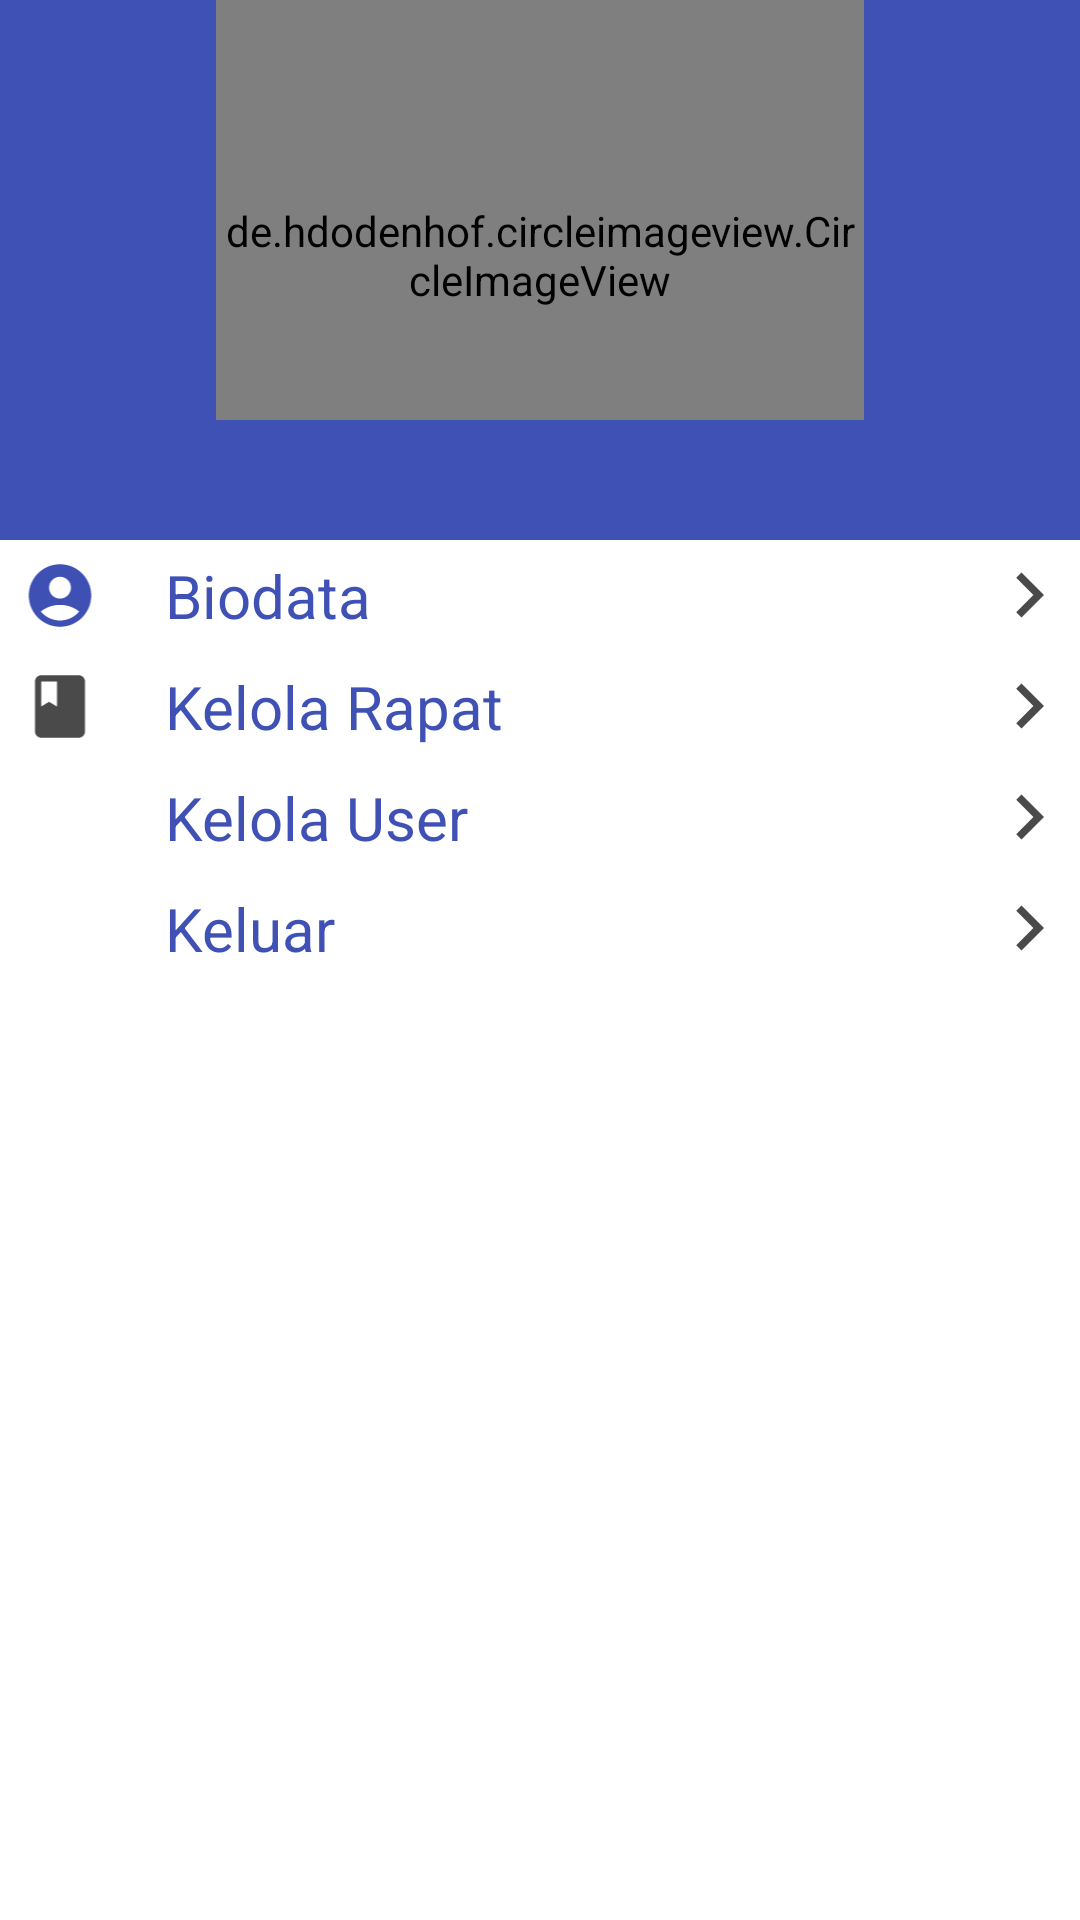

Icon click points for this 1080*1920 phone screenshot, format (x,y):
account circle: (60,595)
book: (60,706)
keyboard arrow right: (1030,595), (1030,706), (1030,817), (1030,928)
